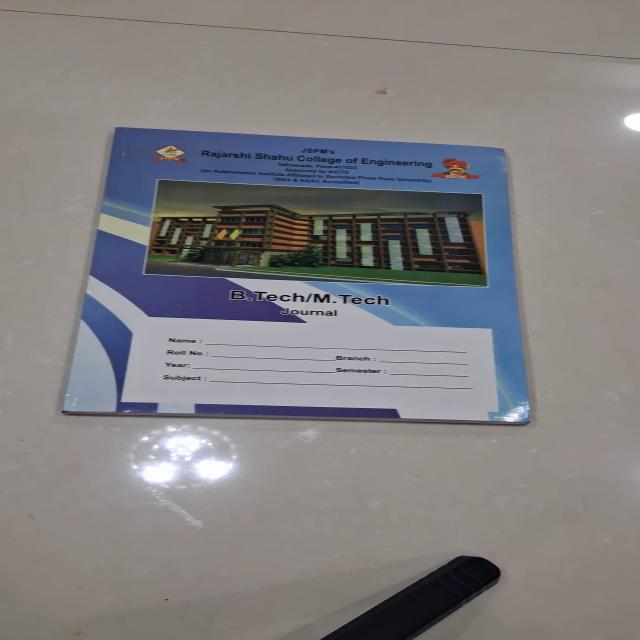paper: (61, 126, 532, 424)
